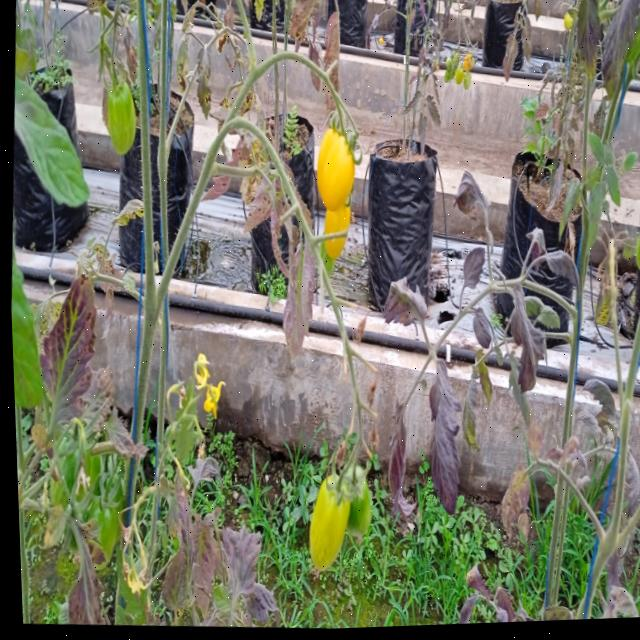fine: (299, 469, 351, 583), (317, 131, 356, 219), (320, 186, 352, 262)
unripe: (102, 77, 139, 158), (339, 463, 371, 553), (630, 216, 640, 300)
